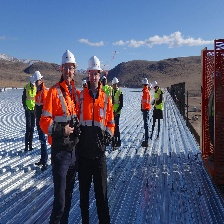helmet: (87, 54, 103, 72), (61, 50, 75, 67)
person: (40, 46, 84, 224), (83, 44, 111, 224), (33, 71, 48, 167), (111, 78, 125, 151), (140, 76, 152, 151), (153, 79, 164, 143)
vest: (79, 86, 109, 148), (52, 86, 79, 145), (24, 83, 38, 111), (113, 89, 123, 115), (142, 87, 151, 110), (154, 91, 163, 110)
